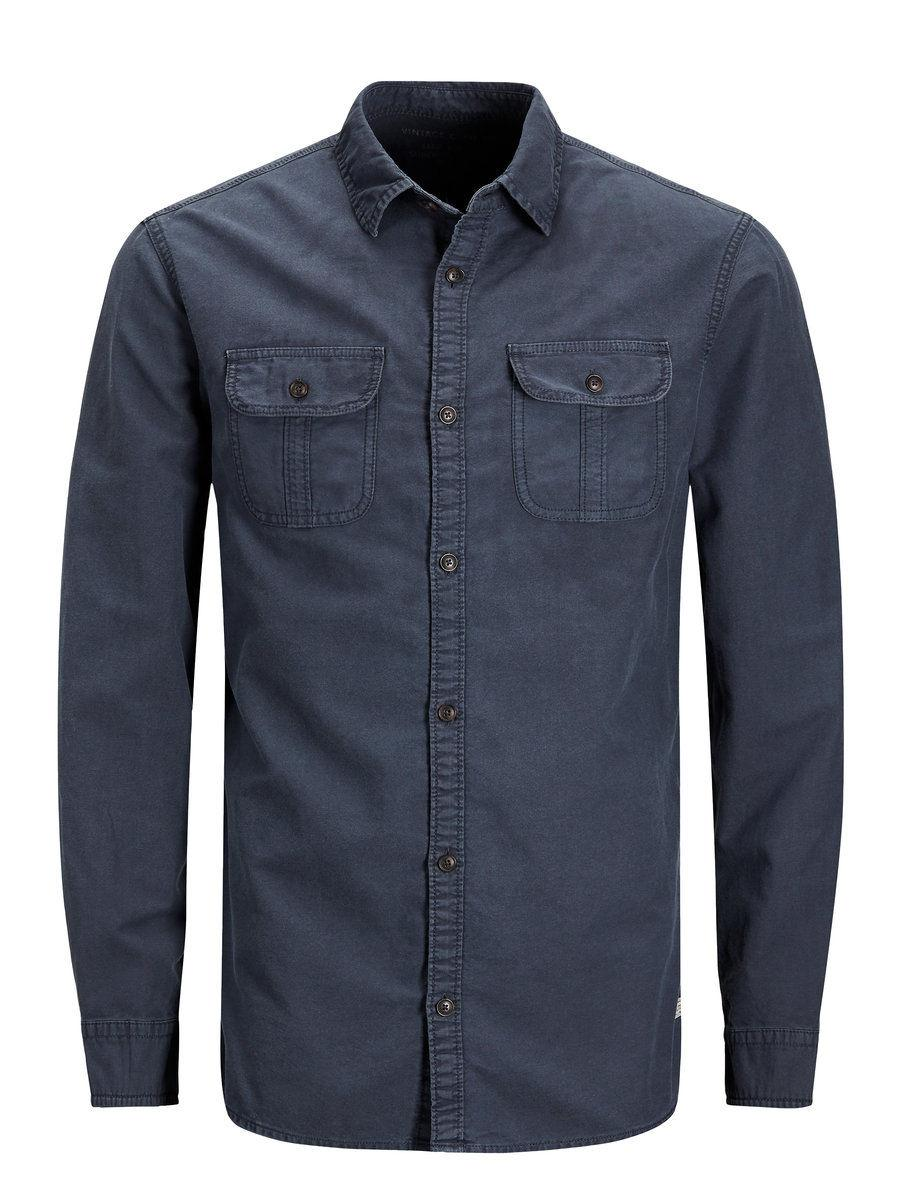teeshirt: (60, 78, 856, 1136)
